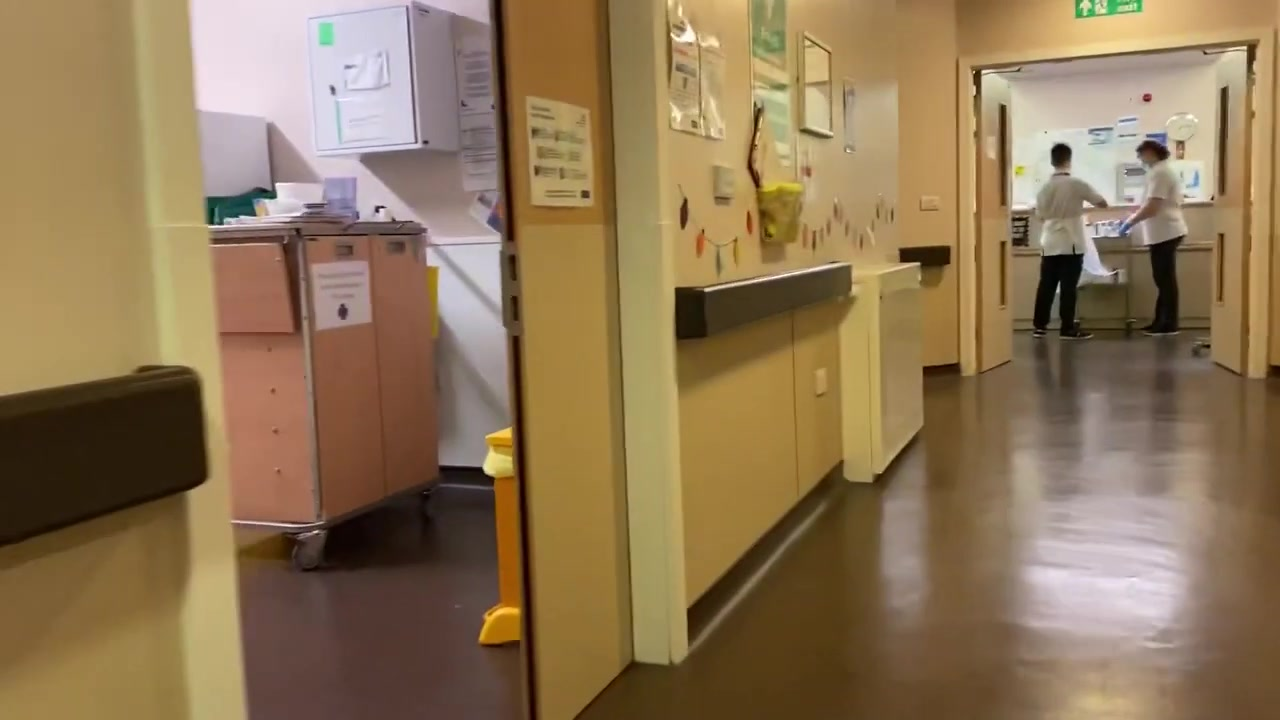hallway_assist_bar: (1, 363, 210, 544), (675, 259, 851, 342)
staff: (1032, 143, 1109, 341), (1116, 139, 1189, 336)
table: (208, 209, 438, 570)
utility_cart: (1073, 220, 1136, 339)
waste_bin: (479, 426, 525, 646)
